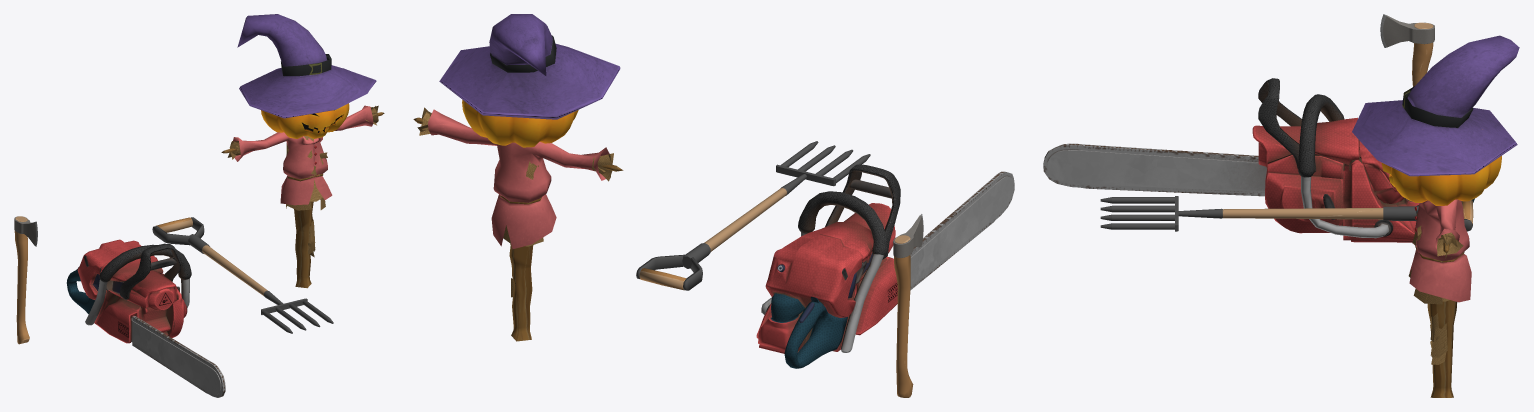
File: pawsome horror lv.fbx
3 views of the same model, side by side, from view 1: azimuth 30°, elevation 25°; view 2: azimuth 150°, elevation 25°; view 3: azimuth 270°, elevation 25° (orthographic). The views are drawn at different scales.
Visible parts, largest first — view 1: scarecrow1, jacksaw, gardenfork, axe; view 2: scarecrow1, jacksaw, gardenfork, axe; view 3: scarecrow1, jacksaw, gardenfork, axe.
Boxes of the visible parts, x1=… form: scarecrow1: x1=221, y1=14, x2=384, y2=288; jacksaw: x1=66, y1=239, x2=225, y2=397; gardenfork: x1=152, y1=217, x2=333, y2=333; axe: x1=14, y1=216, x2=37, y2=344; scarecrow1: x1=413, y1=14, x2=623, y2=341; jacksaw: x1=756, y1=164, x2=1014, y2=368; gardenfork: x1=636, y1=141, x2=870, y2=290; axe: x1=893, y1=214, x2=923, y2=397; scarecrow1: x1=1352, y1=35, x2=1519, y2=397; jacksaw: x1=1043, y1=78, x2=1474, y2=242; gardenfork: x1=1100, y1=196, x2=1473, y2=231; axe: x1=1380, y1=14, x2=1434, y2=86.
Bounding box in the file's own units: 54.63 × 36.12 × 45.32.
